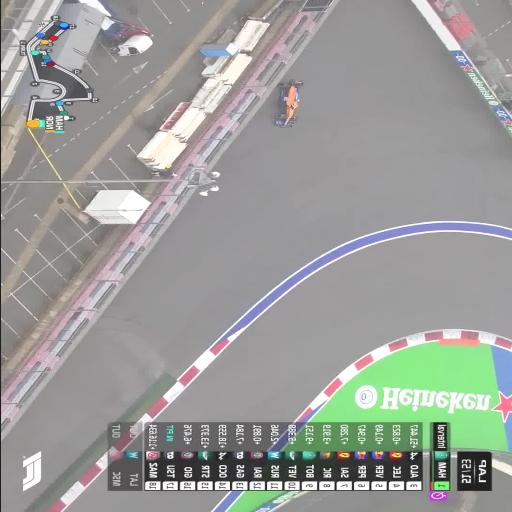f1_car: (274, 80, 302, 127)
